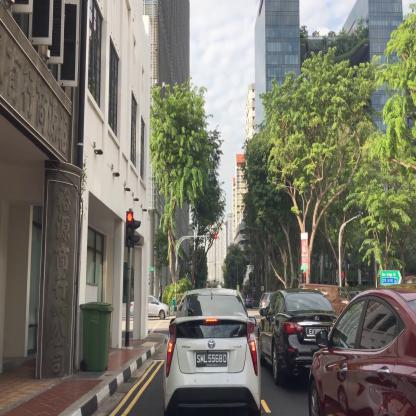red_traffic_light: (126, 211, 133, 247), (209, 234, 216, 238)
